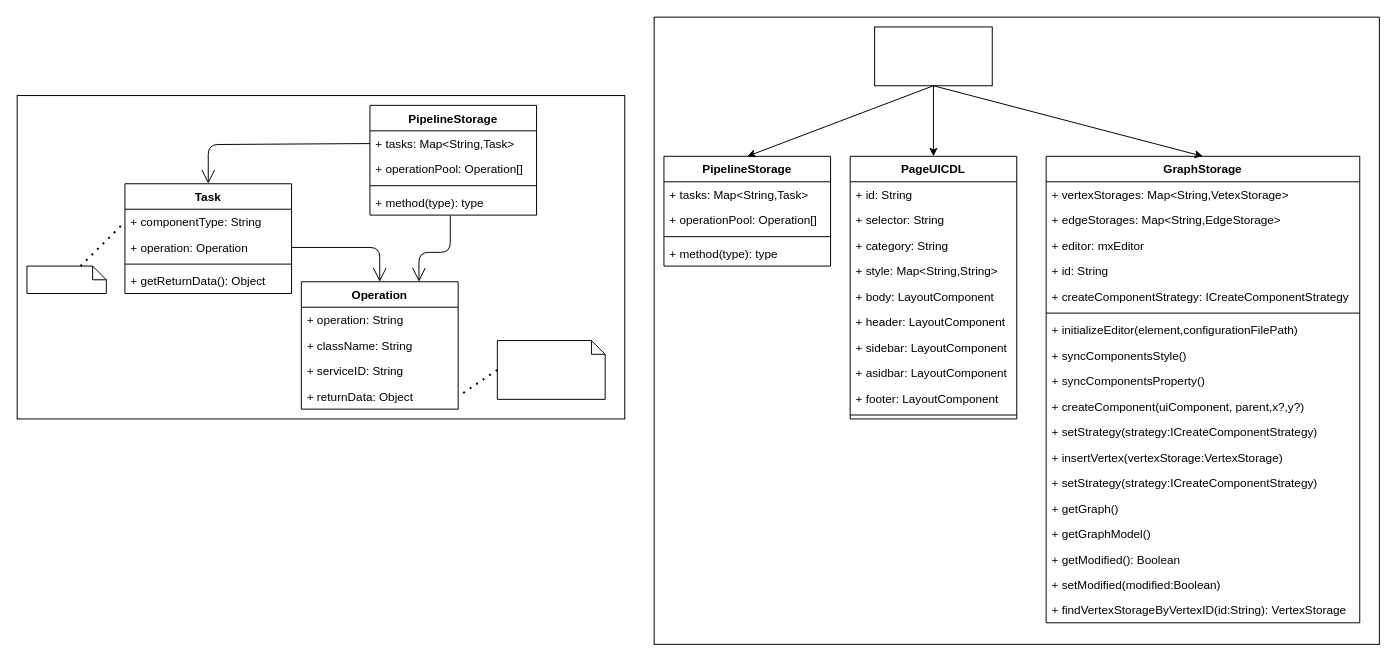
Some shapes in this 1397 by 662 pixel diagram are drawn without their labels. The centre of each missing label's shape, as x and y in pixels:
"data: contains unfolding data structure(unfolding complextype" goes at point 550,369.
"form, input, card ..." goes at point 66,279.
"Store" goes at point 933,56.
